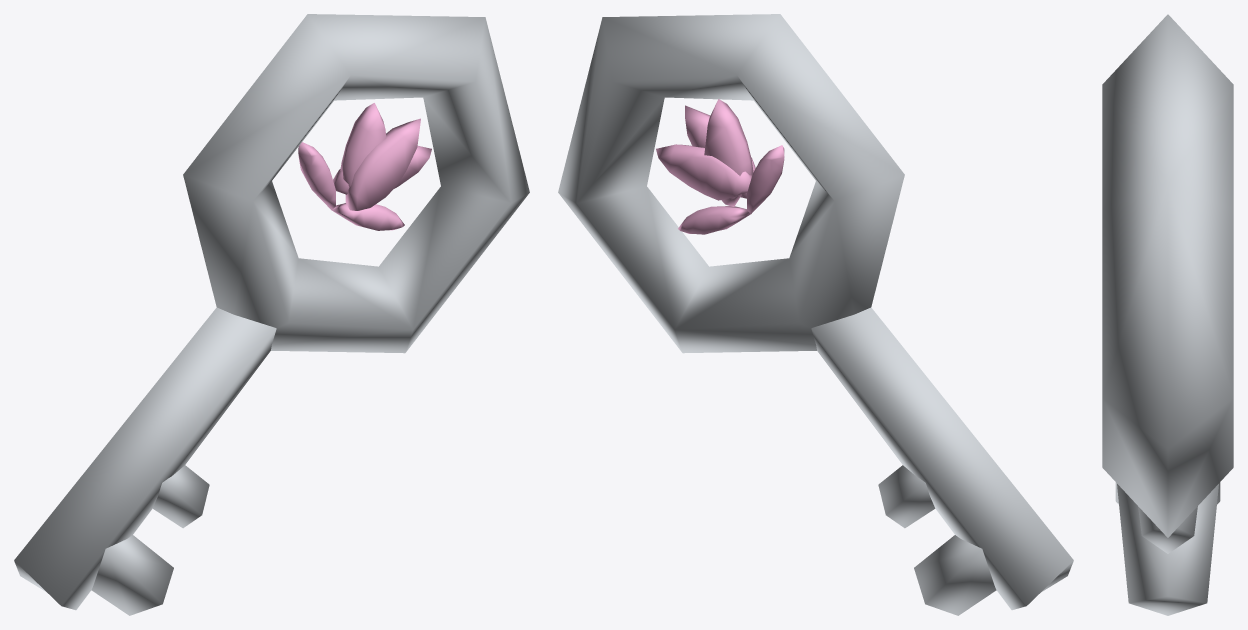
Rendered from WoodfallSmallKey.glb.
3 views of the same model, side by side, from view 1: azimuth 30°, elevation 25°; view 2: azimuth 150°, elevation 25°; view 3: azimuth 270°, elevation 25° (orthographic). The views are drawn at different scales.
Parts seen in each view (by area): view 1: WoodfallSmallKey; view 2: WoodfallSmallKey; view 3: WoodfallSmallKey.
Boxes of the visible parts, bbox=[...] form: WoodfallSmallKey: bbox=[14, 14, 529, 615]; WoodfallSmallKey: bbox=[558, 14, 1073, 615]; WoodfallSmallKey: bbox=[1102, 14, 1233, 615].
Bounding box in the file's own units: 58 × 60 × 10.
